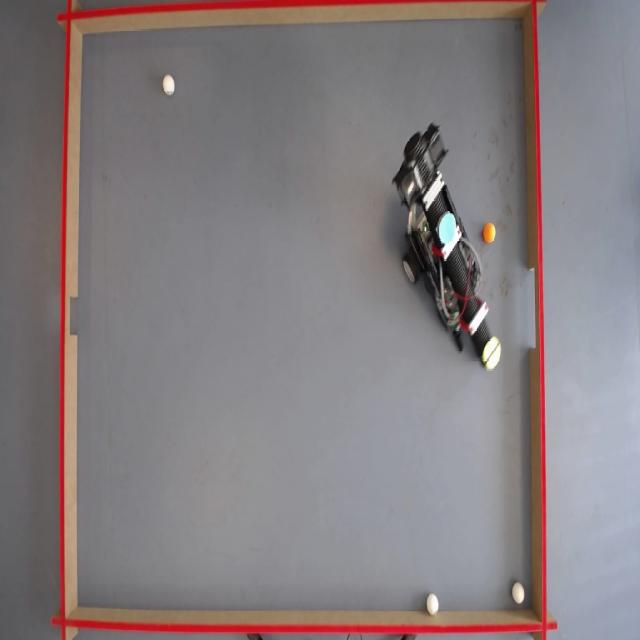orange: (485, 226, 498, 244)
robot: (396, 121, 499, 377)
robot-front: (485, 338, 503, 369)
robot-rear: (438, 212, 459, 245)
white: (513, 584, 527, 606), (426, 593, 440, 615), (164, 76, 177, 96)
